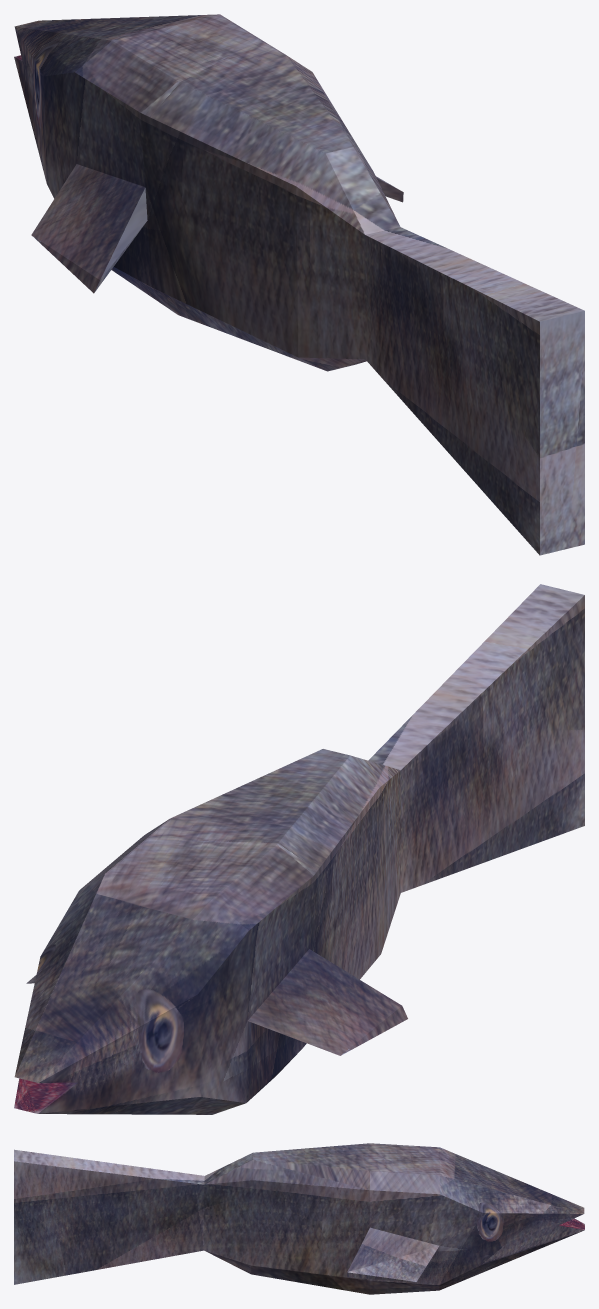
Rendered from fish_alive_2.fbx.
3 views of the same model, one above another, from view 1: azimuth 30°, elevation 25°; view 2: azimuth 150°, elevation 25°; view 3: azimuth 270°, elevation 25° (orthographic). The views are drawn at different scales.
Parts seen in each view (by area): view 1: Cube; view 2: Cube; view 3: Cube.
Boxes of the visible parts, x1=… form: Cube: x1=14, y1=14, x2=584, y2=555; Cube: x1=14, y1=584, x2=584, y2=1114; Cube: x1=14, y1=1143, x2=584, y2=1294.
Size of the model in its own units: 148 by 103 by 433.
Materials: 1 (1 with a texture image).
